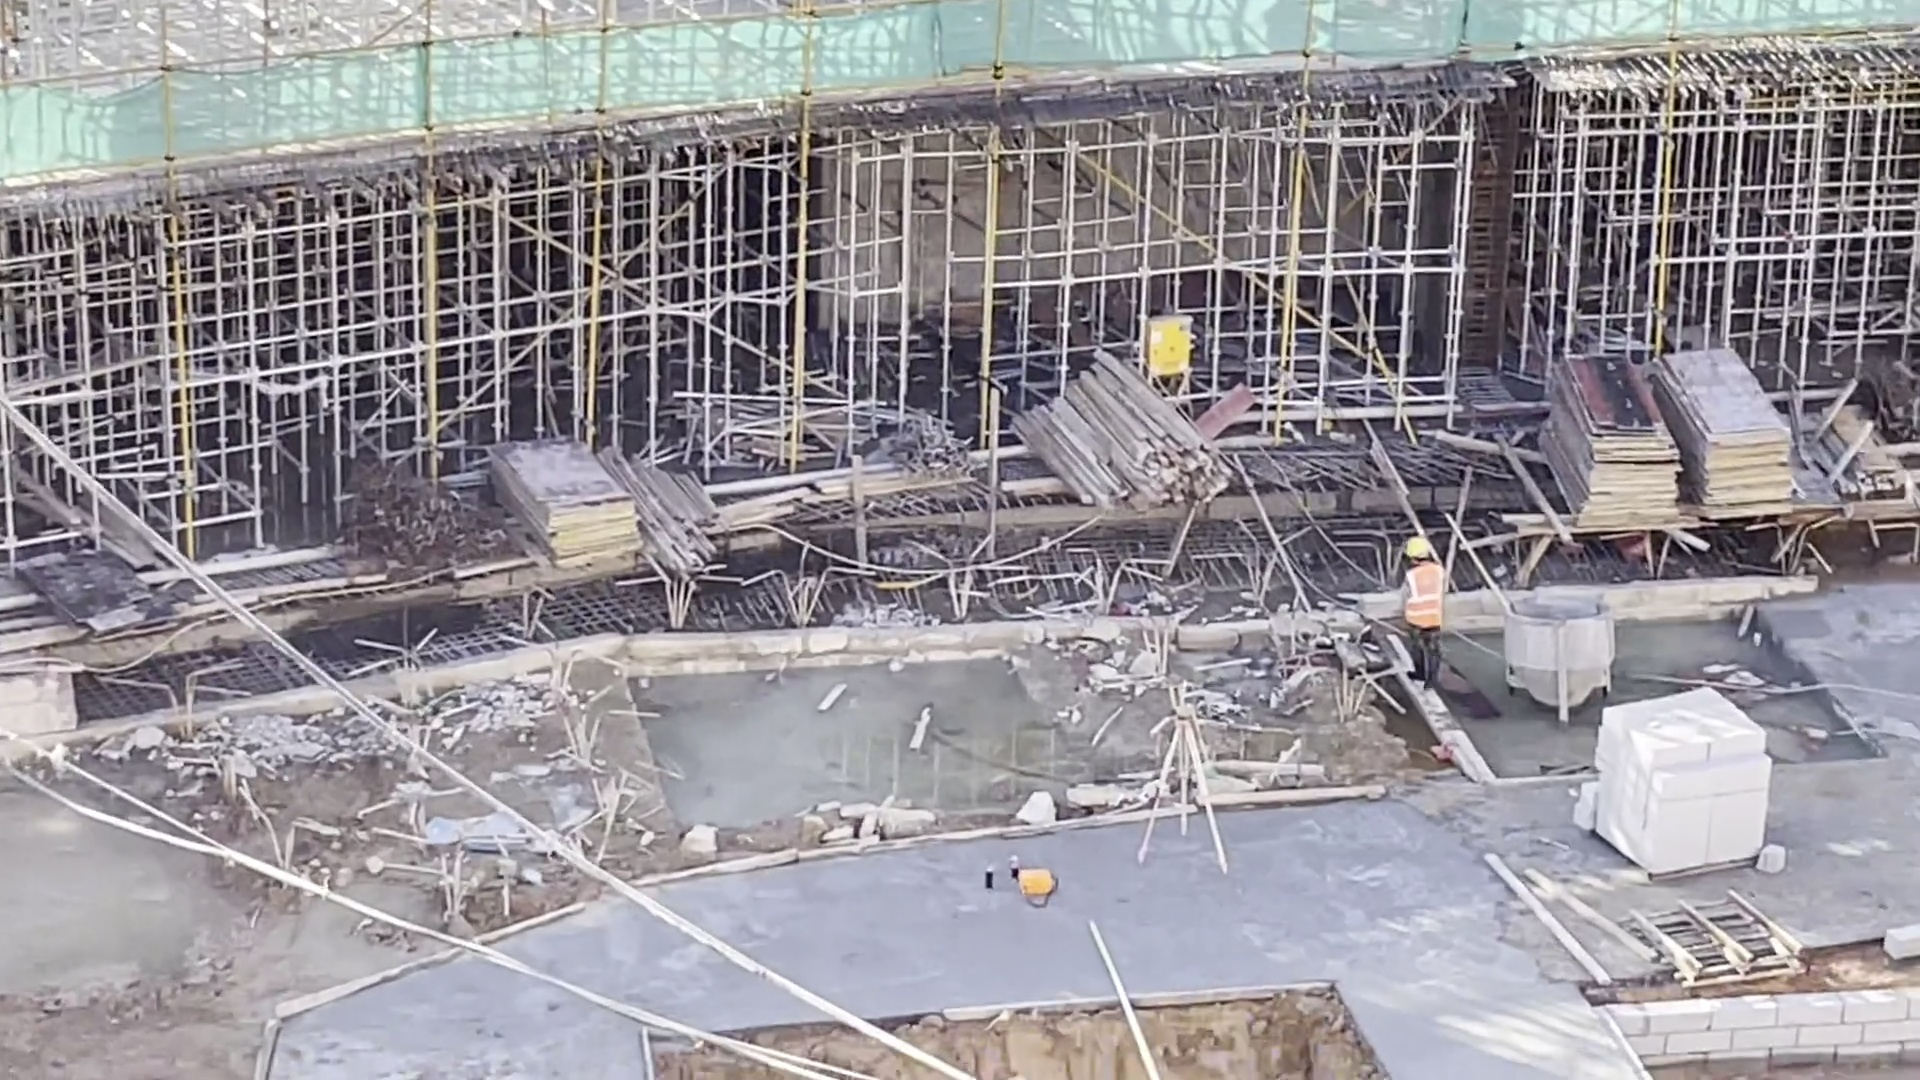board: (1542, 350, 1680, 529), (1661, 346, 1792, 515), (481, 437, 641, 571)
brick: (1581, 669, 1770, 882)
ebox: (1137, 309, 1192, 389)
helmet: (1406, 534, 1433, 559)
hopper: (1498, 587, 1613, 724)
person: (1401, 534, 1447, 695)
vest: (1406, 560, 1442, 632)
wood: (1014, 354, 1228, 505)
